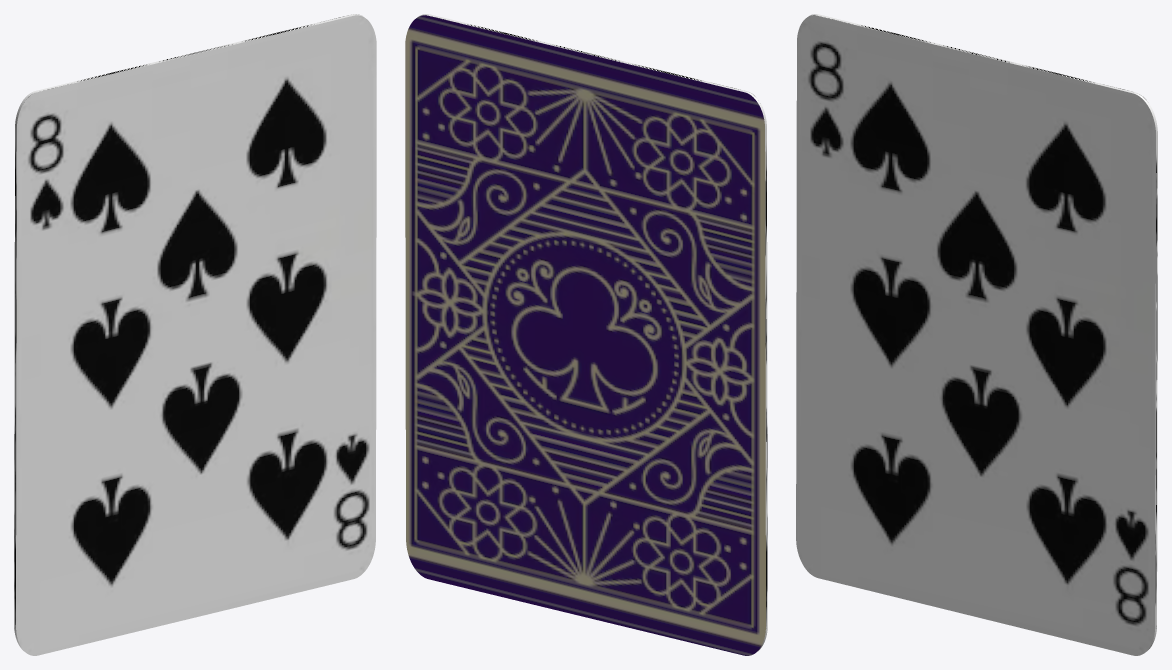
The model's file is 8picas.glb.
3 views of the same model, side by side, from view 1: azimuth 30°, elevation 25°; view 2: azimuth 150°, elevation 25°; view 3: azimuth 330°, elevation 25° (orthographic).
Visible parts, largest first — view 1: Cubo.012; view 2: Cubo.012; view 3: Cubo.012.
Boxes of the visible parts, left/top/right/bottom form: Cubo.012: left=14, top=14, right=376, bottom=655; Cubo.012: left=405, top=14, right=767, bottom=655; Cubo.012: left=796, top=14, right=1157, bottom=655.
Bounding box in the file's own units: 7.36 × 11 × 0.065.
Materials: 3 (3 with a texture image).
